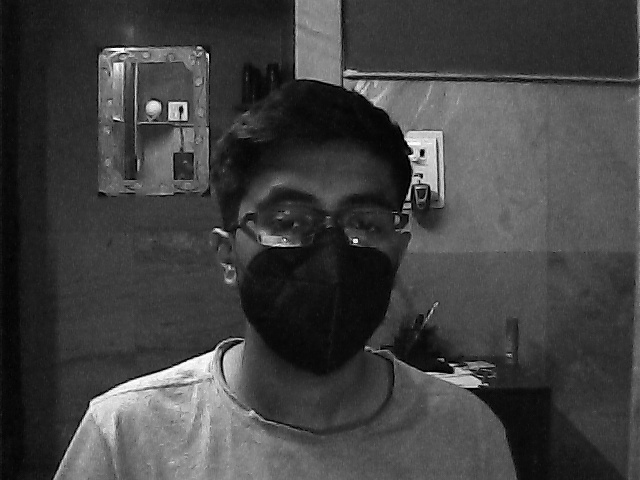mask: (221, 164, 410, 378)
